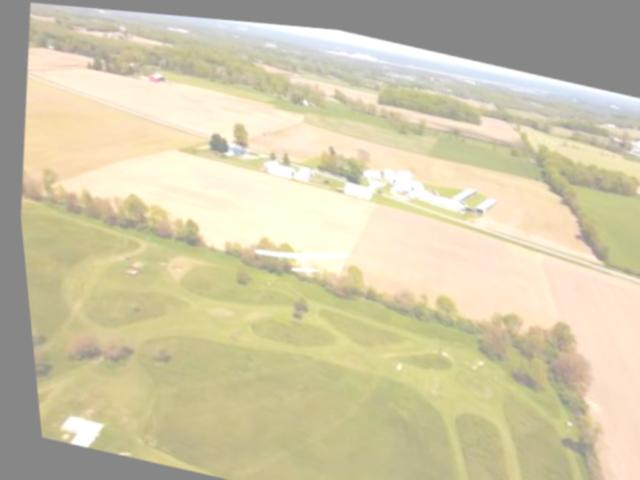uav: (238, 215, 353, 292)
